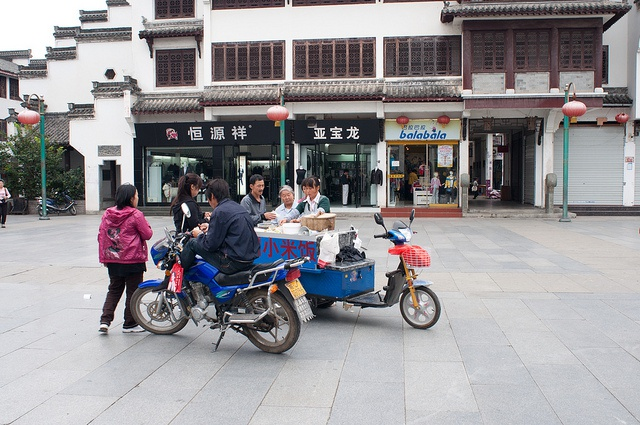non-vehicle: (130, 203, 313, 355), (292, 208, 445, 330), (35, 192, 76, 215)
